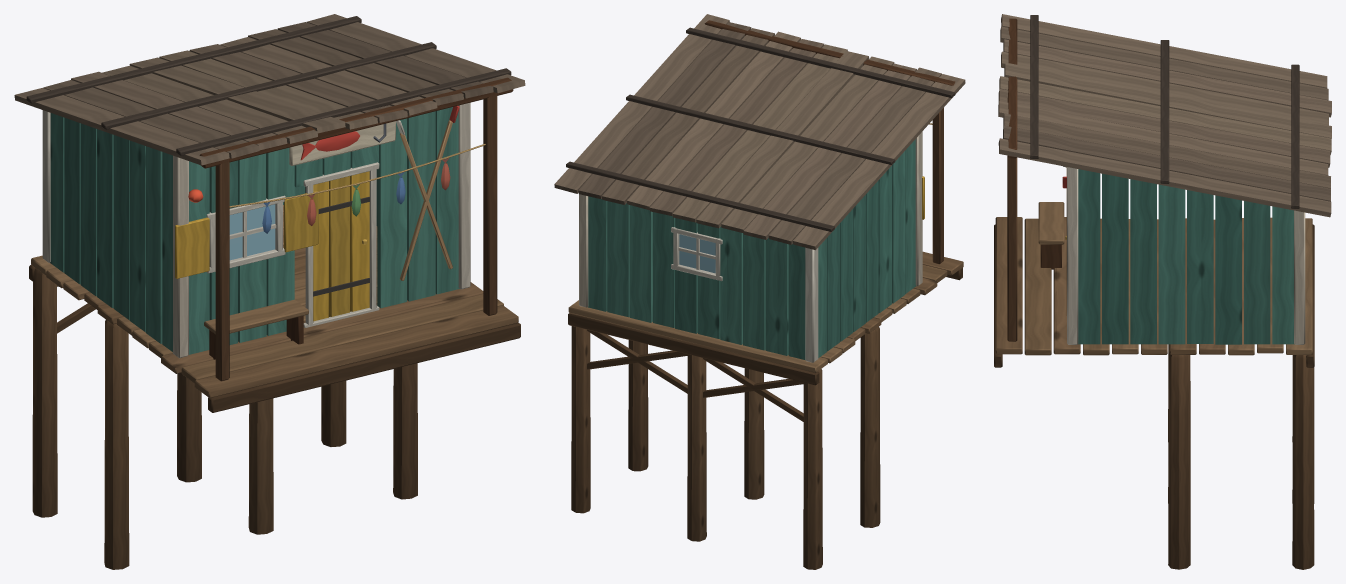
File: ship-house-d.glb
3 renders of one model, left to right at view 1: azimuth 30°, elevation 25°; view 2: azimuth 150°, elevation 25°; view 3: azimuth 270°, elevation 25°, orthographic. The views are drawn at different scales.
Parts seen in each view (by area): view 1: ship-house-d; view 2: ship-house-d; view 3: ship-house-d.
Boxes of the visible parts, x1=… form: ship-house-d: x1=14, y1=14, x2=525, y2=569; ship-house-d: x1=554, y1=14, x2=965, y2=569; ship-house-d: x1=994, y1=14, x2=1331, y2=569.
Bounding box in the file's own units: 4.7 × 6.58 × 4.77.
5 materials, 2 textured.
